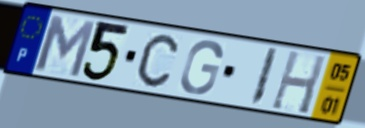5: (80, 19, 134, 84)
C: (136, 32, 181, 90)
G: (178, 39, 225, 97)
H: (268, 48, 329, 117)
I: (247, 46, 281, 109)
M: (32, 13, 98, 80)
